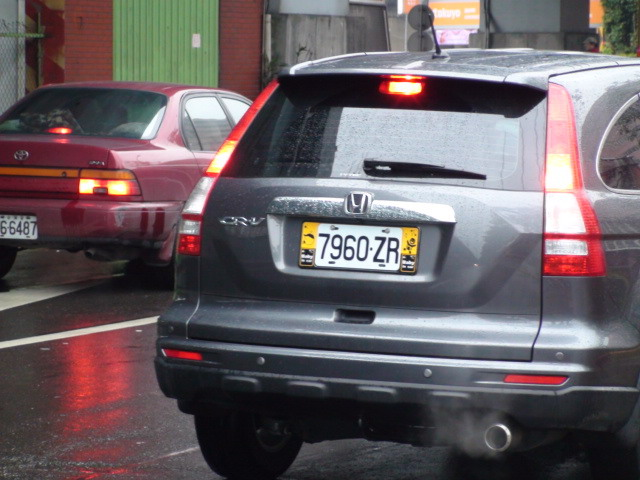plate: (314, 220, 404, 277), (1, 212, 41, 245)
